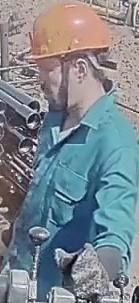gloves: (52, 240, 115, 303)
helmet: (27, 0, 112, 68)
vest: (0, 89, 138, 302)
